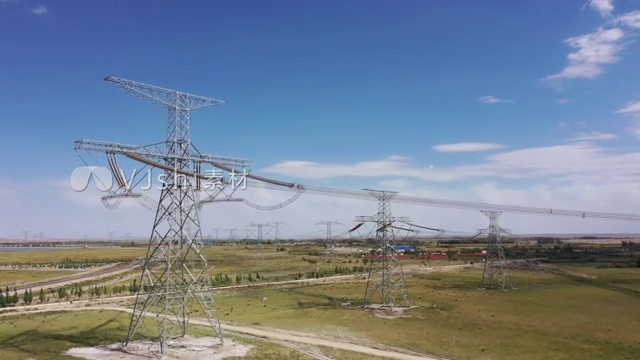tower_body: (71, 61, 253, 356), (351, 179, 417, 318), (475, 204, 521, 294)
tower_foot: (122, 270, 223, 354), (365, 271, 408, 315), (479, 269, 515, 290)
tower_head: (102, 67, 228, 115), (360, 185, 403, 201), (479, 207, 509, 219)
